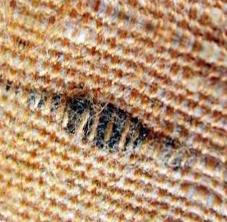slub: (1, 72, 189, 174)
